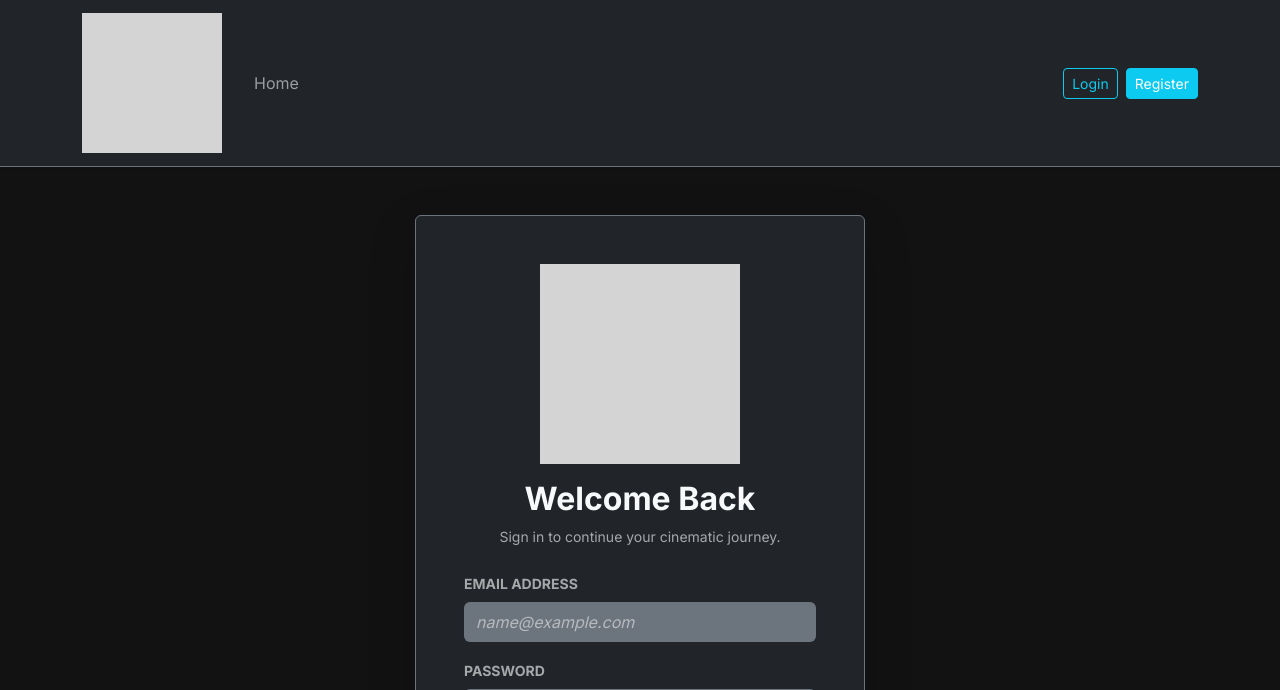
Authentication & Admin Role UI Tests › Should show an error for invalid login credentials
In the field with placeholder "name@example.com": (640, 622) [464, 602, 816, 642], type "wrongemail@example.com"
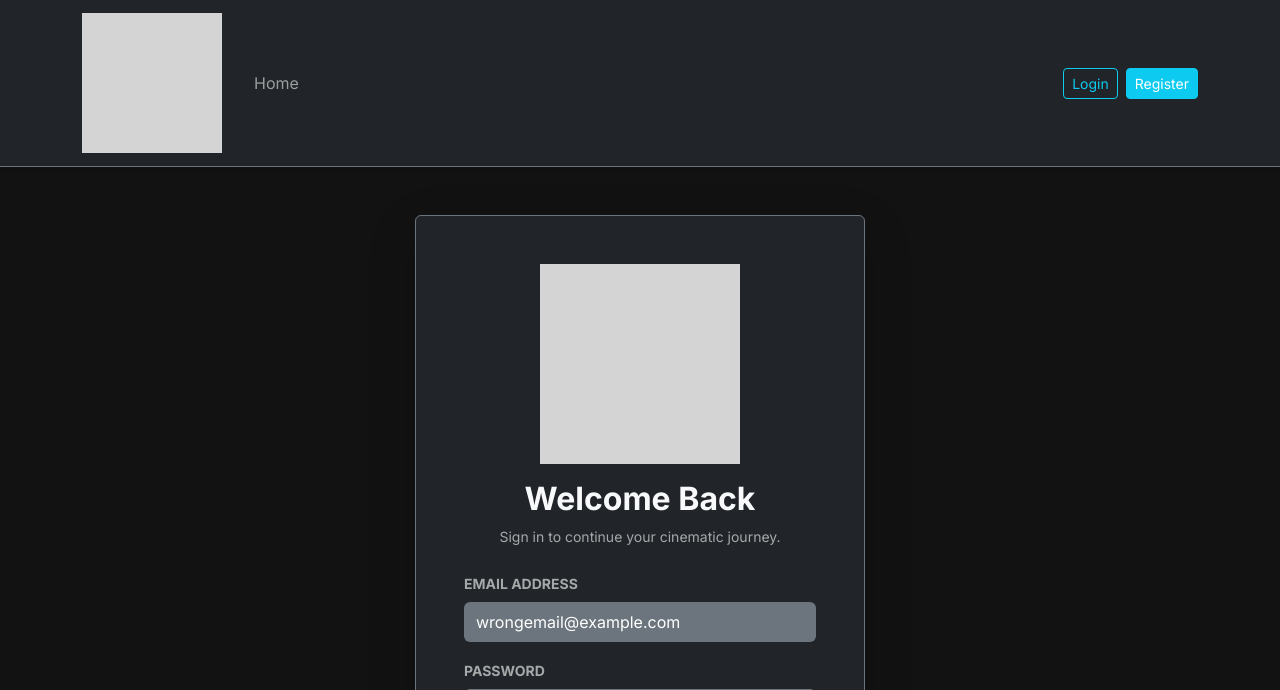
Scroll
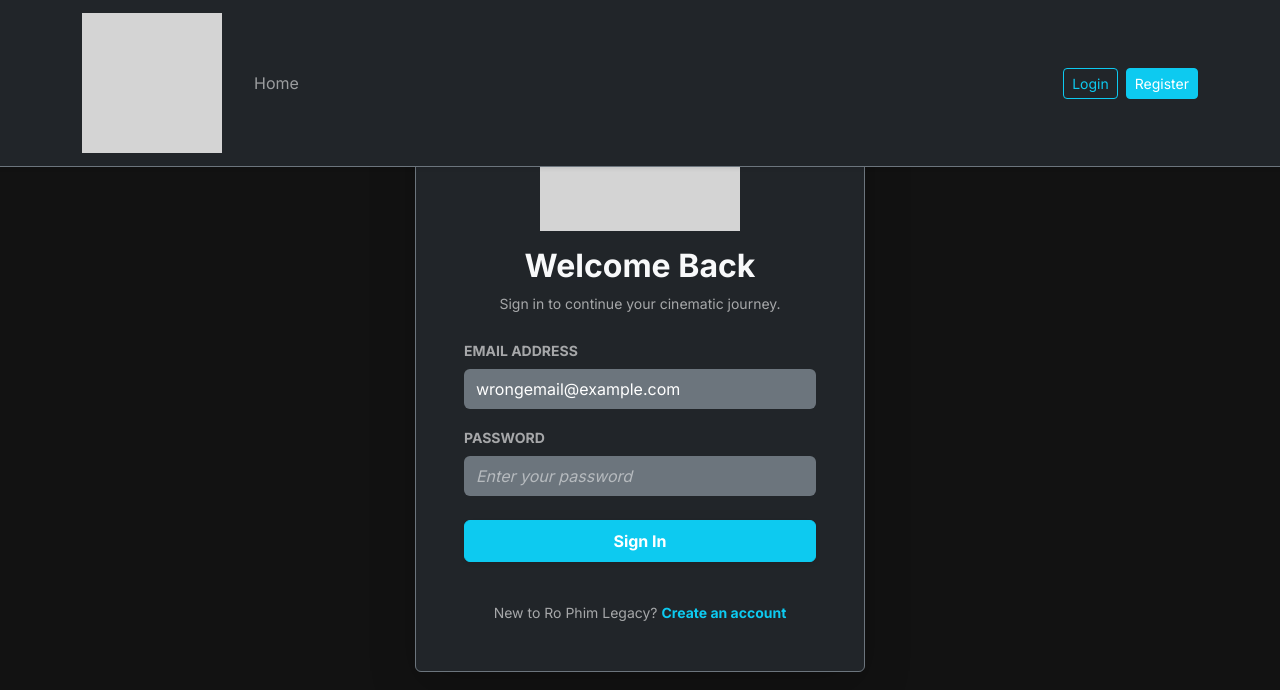
In the password field with placeholder "Enter your password": (640, 476) [464, 456, 816, 496], type "wrongpassword"
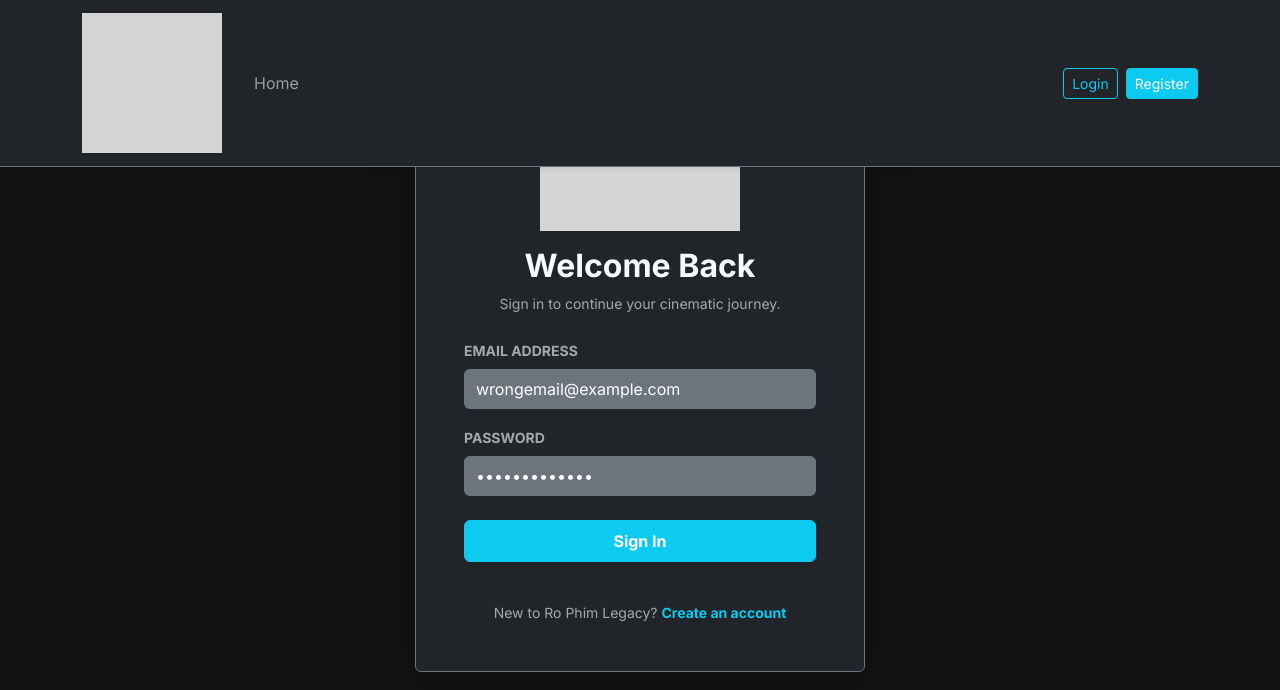
Click the button "Sign In": (640, 541) [464, 520, 816, 562]
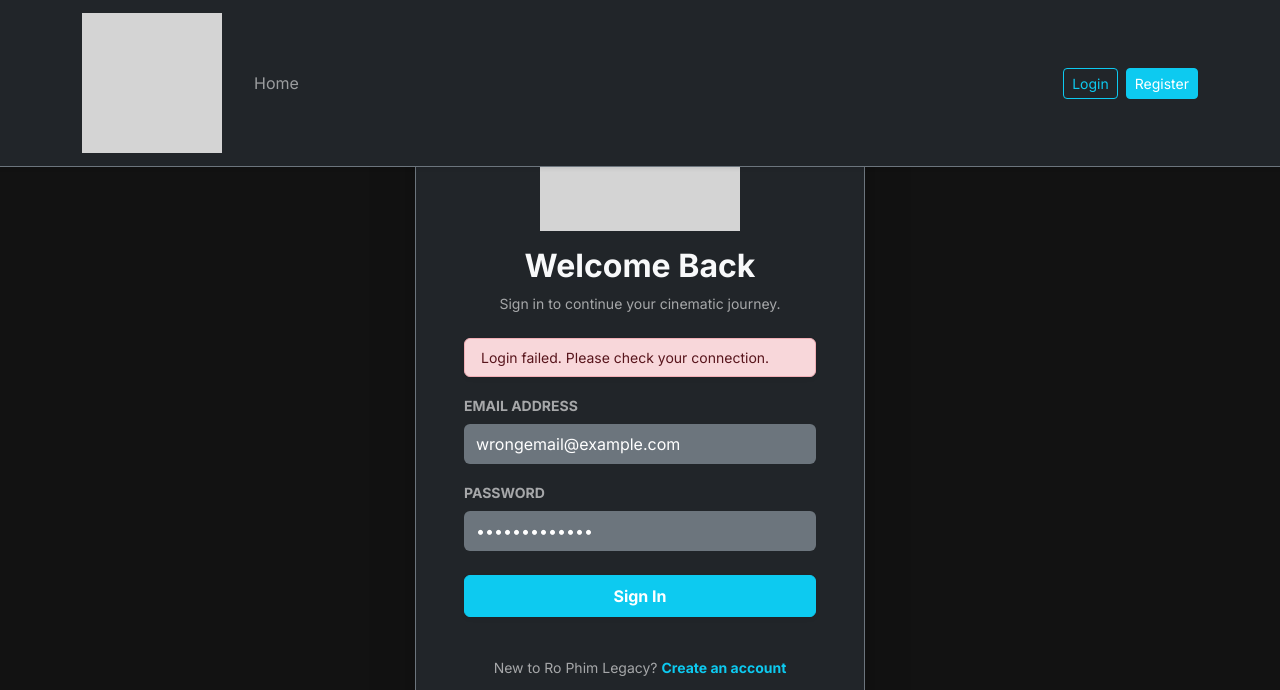
Now the text "Login failed. Please check your connection." is shown, box [464, 338, 816, 377]
